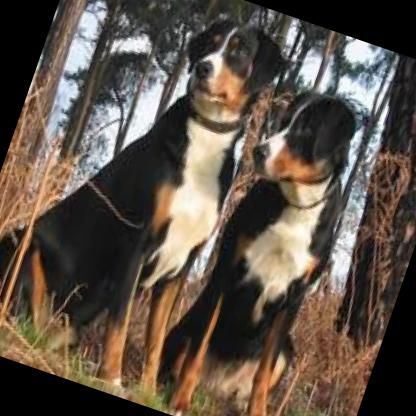EntleBucher: (0, 0, 300, 406), (170, 75, 385, 416)
